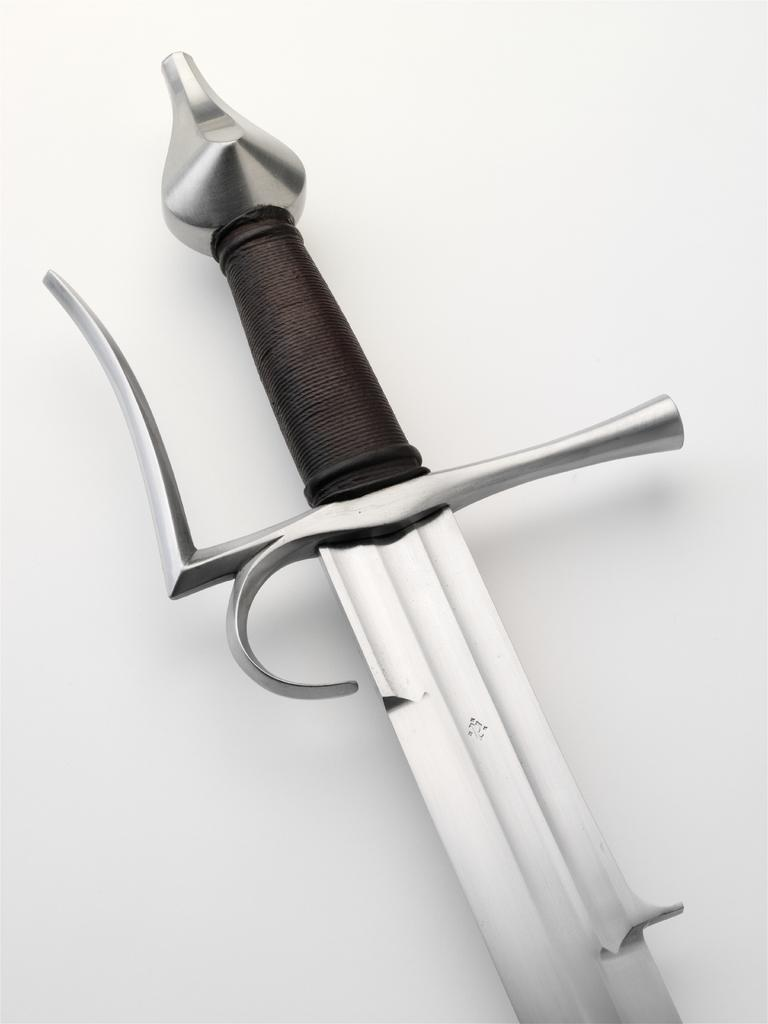Sword: (42, 45, 684, 1023)
